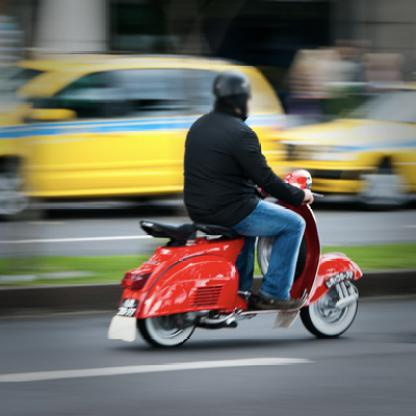Helmet: (210, 66, 253, 122)
